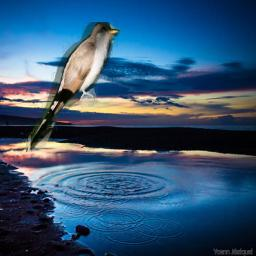Cuckoo: (26, 22, 120, 152)
